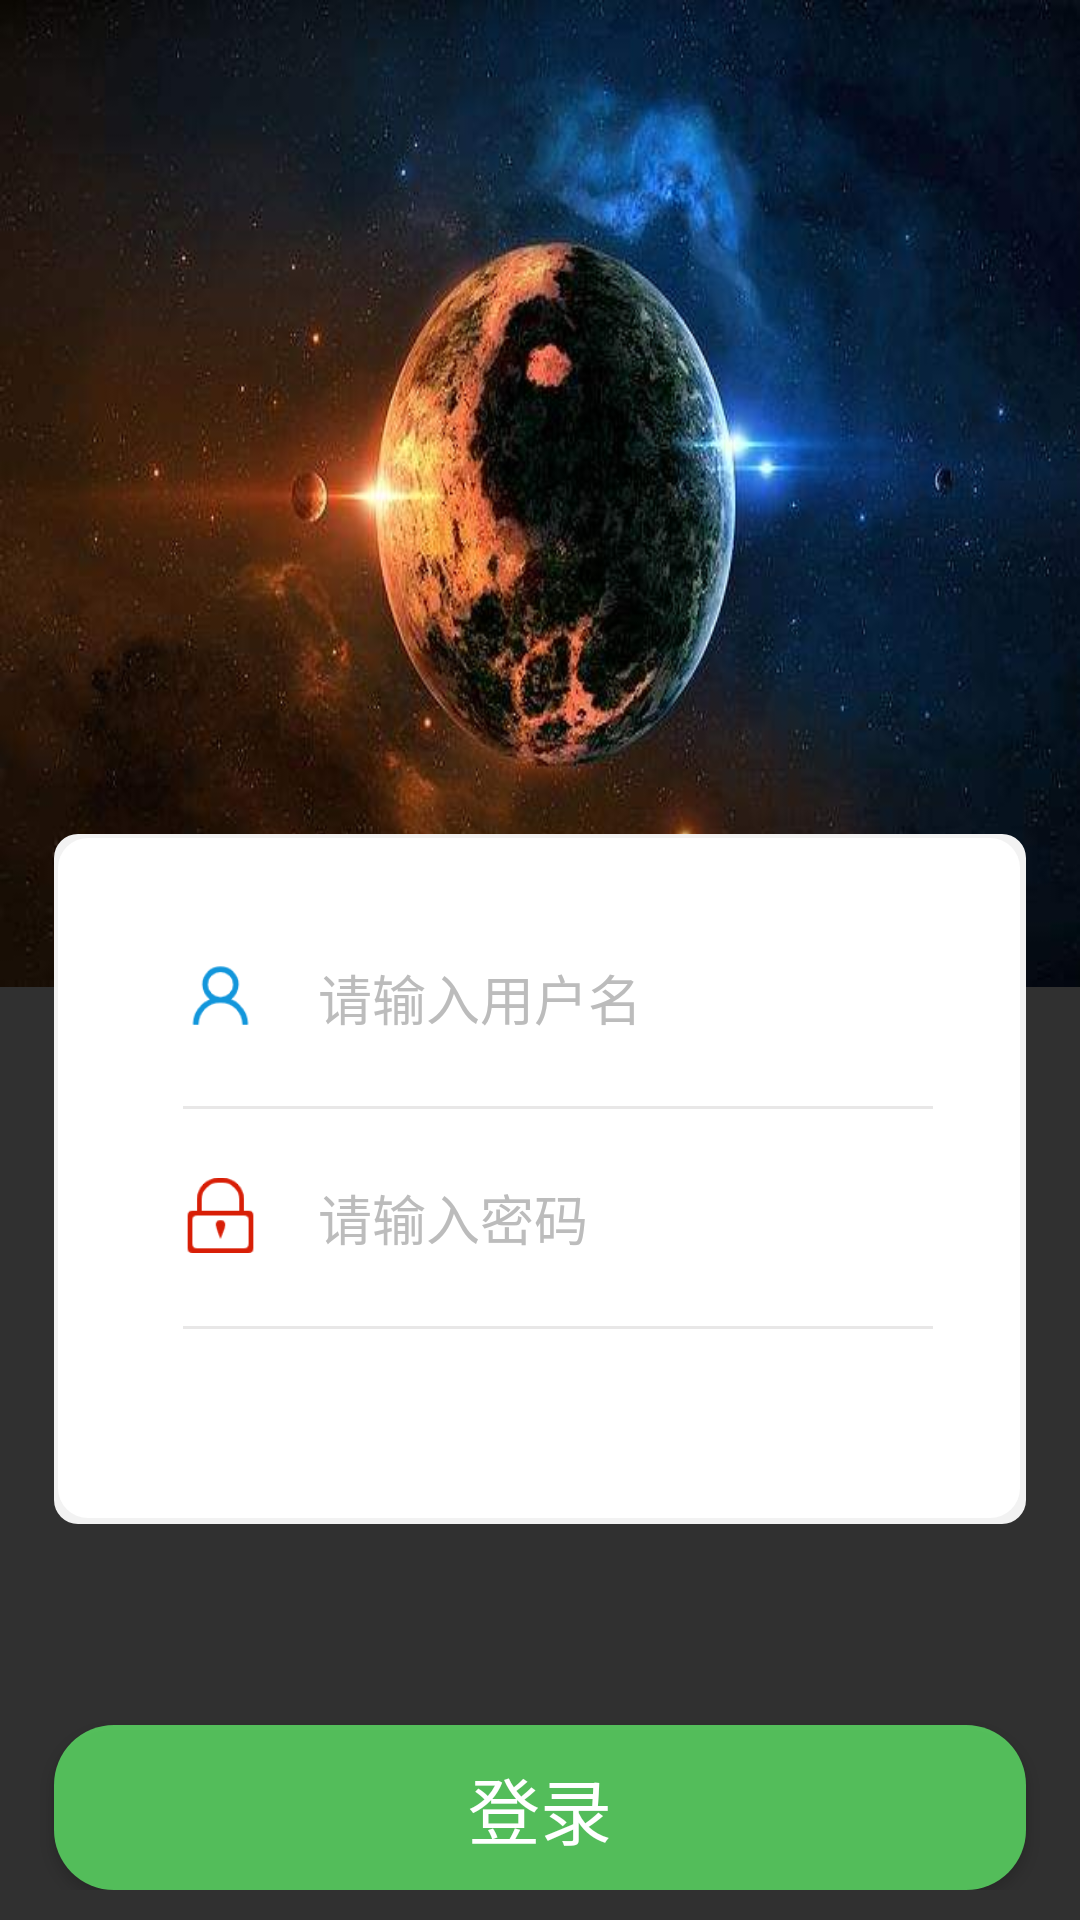

Icon click points for this 1080px×1920px phone screenshot, format (x,y):
user: (220,995)
